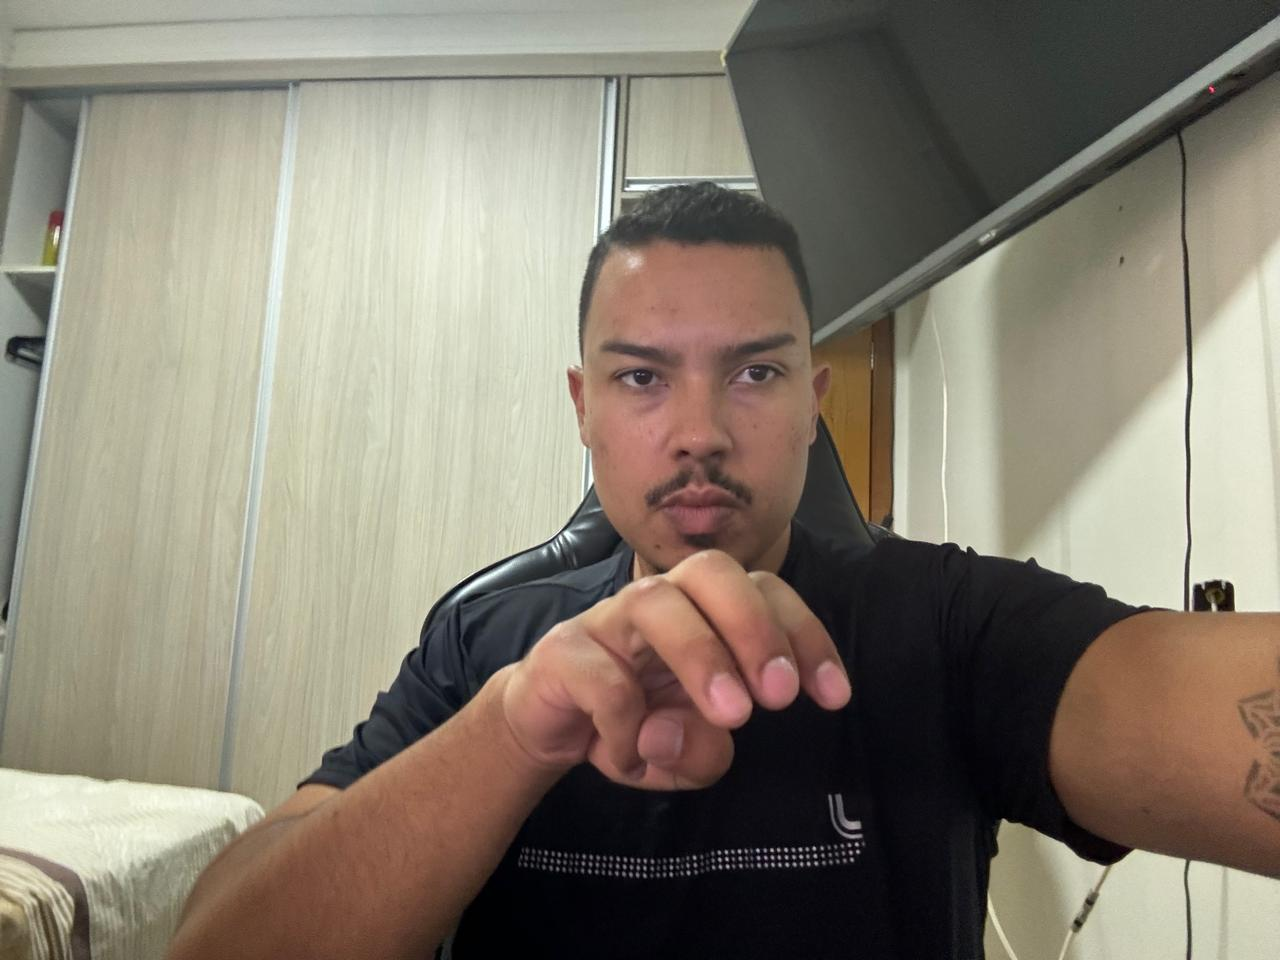m: (495, 537, 858, 807)
